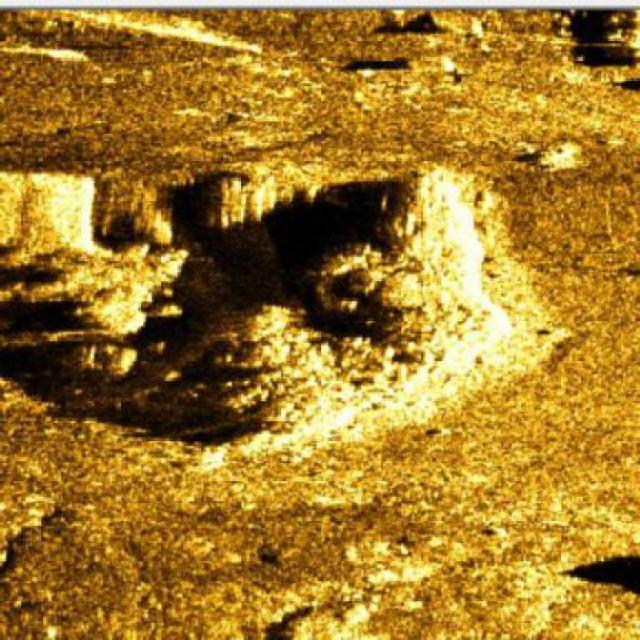bedrock group: (0, 141, 522, 461)
